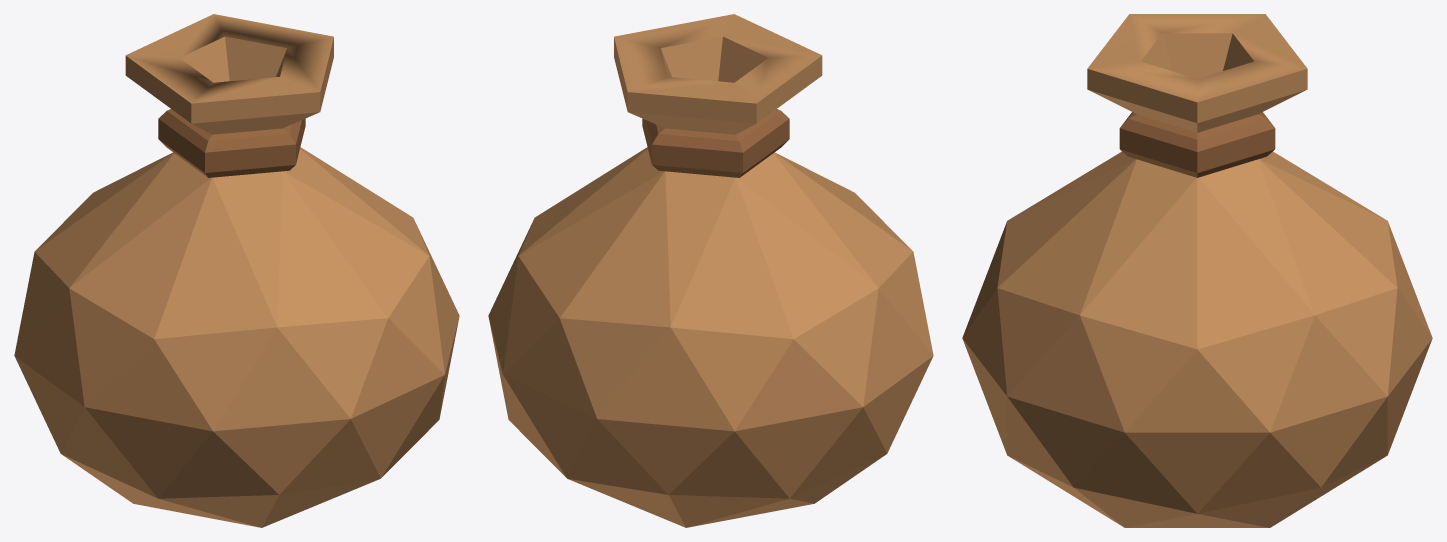
Rendered from MoneyBag.fbx.
The picture shows the model from 3 angles, left to right: view 1: azimuth 30°, elevation 25°; view 2: azimuth 150°, elevation 25°; view 3: azimuth 270°, elevation 25°; orthographic projection. The views are drawn at different scales.
Parts seen in each view (by area): view 1: MoneyBag; view 2: MoneyBag; view 3: MoneyBag.
Part boxes in pixels (box(x1,y1,x2,y2)): MoneyBag: box(14, 14, 459, 527); MoneyBag: box(488, 14, 933, 527); MoneyBag: box(962, 14, 1432, 527).
Size of the model in its own units: 15.61 by 16.74 by 16.41.
